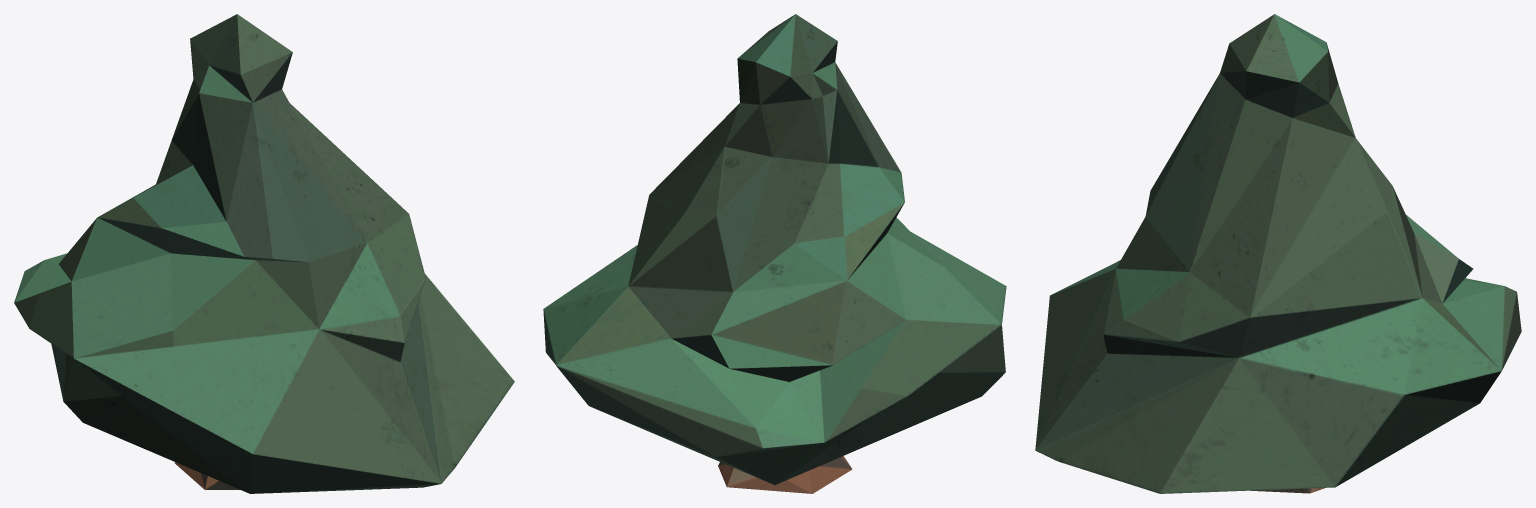
The model's file is tree_model_1.fbx.
3 views of the same model, side by side, from view 1: azimuth 30°, elevation 25°; view 2: azimuth 150°, elevation 25°; view 3: azimuth 270°, elevation 25° (orthographic).
Parts seen in each view (by area): view 1: node_id57; view 2: node_id57; view 3: node_id57.
Part boxes in pixels (x1=…): node_id57: x1=14, y1=14, x2=514, y2=493; node_id57: x1=543, y1=14, x2=1006, y2=493; node_id57: x1=1035, y1=14, x2=1521, y2=493.
Bounding box in the file's own units: 0.4854 × 0.512 × 0.501.
1 material, 1 textured.
